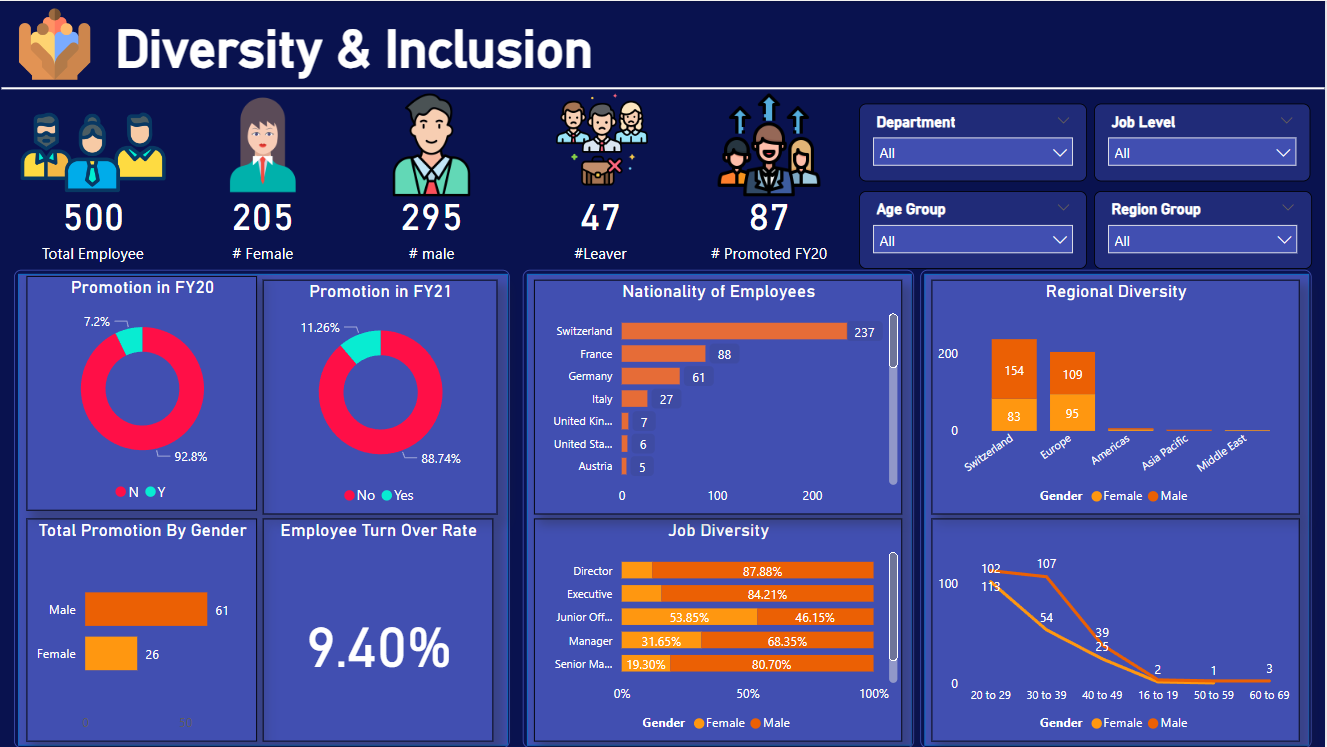

The page's visual inventory and layout, read from the dashboard file:
{"tool":"powerbi","page":{"name":"Page 3","canvas":[1280,720],"ordinal":2},"visuals":[{"type":"slicer","fields":{"Values":["Pharma Group AG.Last Department in FY20"]},"box":[830,98.8,220,75],"z":0},{"type":"slicer","fields":{"Values":["Pharma Group AG.Job Level after FY20 promotions"]},"box":[1056.2,98.8,208.8,75],"z":1000},{"type":"slicer","fields":{"Values":["Pharma Group AG.Age group"]},"box":[830,183.8,220,75],"z":2000},{"type":"slicer","fields":{"Values":["Pharma Group AG.Broad region group: nationality 1","Pharma Group AG.Department & JL group PRA status"]},"box":[1056.2,183.8,210,75],"z":3000},{"type":"shape","box":[2.5,72.5,1277.5,23.8],"z":4000},{"type":"card","fields":{"Values":["CountNonNull(Pharma Group AG.Employee ID)"]},"box":[15,171.2,152.5,87.5],"z":5000},{"type":"card","fields":{"Values":["Pharma Group AG.# Female"]},"box":[178.1,171.2,152.5,87.5],"z":6000},{"type":"card","fields":{"Values":["Pharma Group AG.# male"]},"box":[341.2,171.2,152.5,87.5],"z":7000},{"type":"card","fields":{"Values":["Pharma Group AG.#Leaver"]},"box":[504.4,171.2,152.5,87.5],"z":8000},{"type":"card","fields":{"Values":["Pharma Group AG.# Promoted FY20"]},"box":[667.5,171.2,152.5,87.5],"z":9000},{"type":"image","box":[178.8,85,152.5,108.8],"z":10000},{"type":"image","box":[15,71.2,152.5,150],"z":11000},{"type":"image","box":[341.2,85,152.5,108.8],"z":12000},{"type":"image","box":[505,85,152.5,98.8],"z":13000},{"type":"image","box":[667.5,85,152.5,108.8],"z":14000},{"type":"shape","box":[15,258.8,478.8,461.2],"z":15000},{"type":"donutChart","title":"Promotion in FY20","fields":{"Category":["Pharma Group AG.Promotion in FY20?"],"Y":["CountNonNull(Pharma Group AG.Promotion in FY20?)"]},"box":[26.2,265,222.5,226.2],"z":16000},{"type":"donutChart","title":"Promotion in FY21","fields":{"Category":["Pharma Group AG.Promotion in FY21?"],"Y":["CountNonNull(Pharma Group AG.Promotion in FY21?)"]},"box":[255,268.8,226.2,226.2],"z":17000},{"type":"barChart","title":"Total Promotion By Gender","fields":{"Category":["Pharma Group AG.Gender"],"Y":["Pharma Group AG.# Promoted FY20"]},"box":[26.2,498.8,222.5,215],"z":18000},{"type":"card","title":"Employee Turn Over Rate","fields":{"Values":["Pharma Group AG.#Employee Turnover"]},"box":[255,498.8,222.5,215],"z":19000},{"type":"shape","box":[505,258.8,377.5,461.2],"z":20000},{"type":"hundredPercentStackedBarChart","title":"Job Diversity","fields":{"Category":["Pharma Group AG.Job Level after FY21 promotions"],"Y":["CountNonNull(Pharma Group AG.Employee ID)"],"Series":["Pharma Group AG.Gender"]},"box":[516.2,498.8,355,215],"z":21000},{"type":"clusteredBarChart","title":"Nationality of  Employees","fields":{"Y":["CountNonNull(Pharma Group AG.Employee ID)"],"Category":["Pharma Group AG.Nationality 1"]},"box":[516.2,268.8,355,226.2],"z":22000},{"type":"shape","box":[888.8,258.8,377.5,461.2],"z":23000},{"type":"columnChart","title":"Regional Diversity","fields":{"Y":["CountNonNull(Pharma Group AG.Employee ID)"],"Category":["Pharma Group AG.Region group: nationality 1"],"Series":["Pharma Group AG.Gender"]},"box":[900,268.8,355,226.2],"z":24000},{"type":"lineChart","title":"Nationality of  Employees","fields":{"Series":["Pharma Group AG.Gender"],"Category":["Pharma Group AG.Age group"],"Y":["CountNonNull(Pharma Group AG.Employee ID)"]},"box":[900,498.8,355,215],"z":25000},{"type":"textbox","box":[107.5,12.5,550,71.2],"z":26000},{"type":"image","box":[15,0,78.8,83.8],"z":27000}]}

Visuals, with their boxes in screenshot pixels (x1, y1, x2, y2), scaled from the page's 1280x720 canvas onto the 1327x747 screenshot:
slicer - Pharma Group AG.Last Department in FY20: pyautogui.locateOnScreen(860, 103, 1089, 180)
slicer - Pharma Group AG.Job Level after FY20 promotions: pyautogui.locateOnScreen(1095, 103, 1311, 180)
slicer - Pharma Group AG.Age group: pyautogui.locateOnScreen(860, 191, 1089, 269)
slicer - Pharma Group AG.Broad region group: nationality 1 x Pharma Group AG.Department & JL group PRA status: pyautogui.locateOnScreen(1095, 191, 1313, 269)
shape: pyautogui.locateOnScreen(3, 75, 1326, 100)
card - CountNonNull(Pharma Group AG.Employee ID): pyautogui.locateOnScreen(16, 178, 174, 268)
card - Pharma Group AG.# Female: pyautogui.locateOnScreen(185, 178, 343, 268)
card - Pharma Group AG.# male: pyautogui.locateOnScreen(354, 178, 512, 268)
card - Pharma Group AG.#Leaver: pyautogui.locateOnScreen(523, 178, 681, 268)
card - Pharma Group AG.# Promoted FY20: pyautogui.locateOnScreen(692, 178, 850, 268)
image: pyautogui.locateOnScreen(185, 88, 343, 201)
image: pyautogui.locateOnScreen(16, 74, 174, 229)
image: pyautogui.locateOnScreen(354, 88, 512, 201)
image: pyautogui.locateOnScreen(524, 88, 682, 191)
image: pyautogui.locateOnScreen(692, 88, 850, 201)
shape: pyautogui.locateOnScreen(16, 269, 512, 746)
"Promotion in FY20" donutChart: pyautogui.locateOnScreen(27, 275, 258, 510)
"Promotion in FY21" donutChart: pyautogui.locateOnScreen(264, 279, 499, 514)
"Total Promotion By Gender" barChart: pyautogui.locateOnScreen(27, 518, 258, 741)
"Employee Turn Over Rate" card: pyautogui.locateOnScreen(264, 518, 495, 741)
shape: pyautogui.locateOnScreen(524, 269, 915, 746)
"Job Diversity" hundredPercentStackedBarChart: pyautogui.locateOnScreen(535, 518, 903, 741)
"Nationality of  Employees" clusteredBarChart: pyautogui.locateOnScreen(535, 279, 903, 514)
shape: pyautogui.locateOnScreen(921, 269, 1313, 746)
"Regional Diversity" columnChart: pyautogui.locateOnScreen(933, 279, 1301, 514)
"Nationality of  Employees" lineChart: pyautogui.locateOnScreen(933, 518, 1301, 741)
textbox: pyautogui.locateOnScreen(111, 13, 682, 87)
image: pyautogui.locateOnScreen(16, 0, 97, 87)
